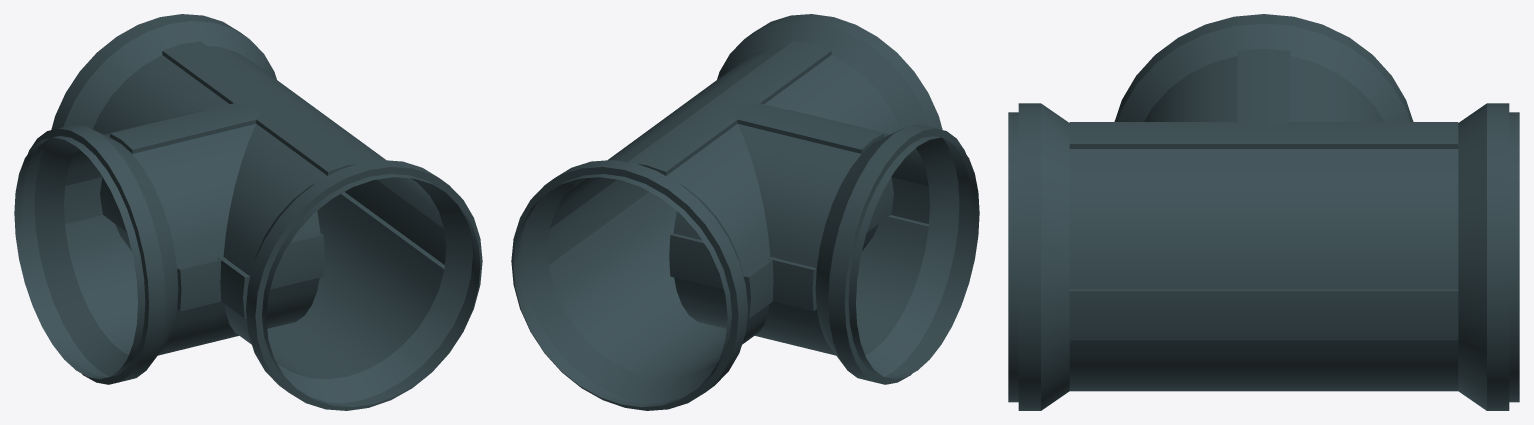
The model's file is tube_ThreeWay.fbx.
3 renders of one model, left to right at view 1: azimuth 30°, elevation 25°; view 2: azimuth 150°, elevation 25°; view 3: azimuth 270°, elevation 25°, orthographic. The views are drawn at different scales.
Parts seen in each view (by area): view 1: Tube_ThreeWay; view 2: Tube_ThreeWay; view 3: Tube_ThreeWay.
Part boxes in pixels (box(x1,y1,x2,y2)): Tube_ThreeWay: box(14, 14, 482, 410); Tube_ThreeWay: box(511, 14, 979, 410); Tube_ThreeWay: box(1008, 14, 1519, 410).
Bounding box in the file's own units: 320 × 241 × 400.
